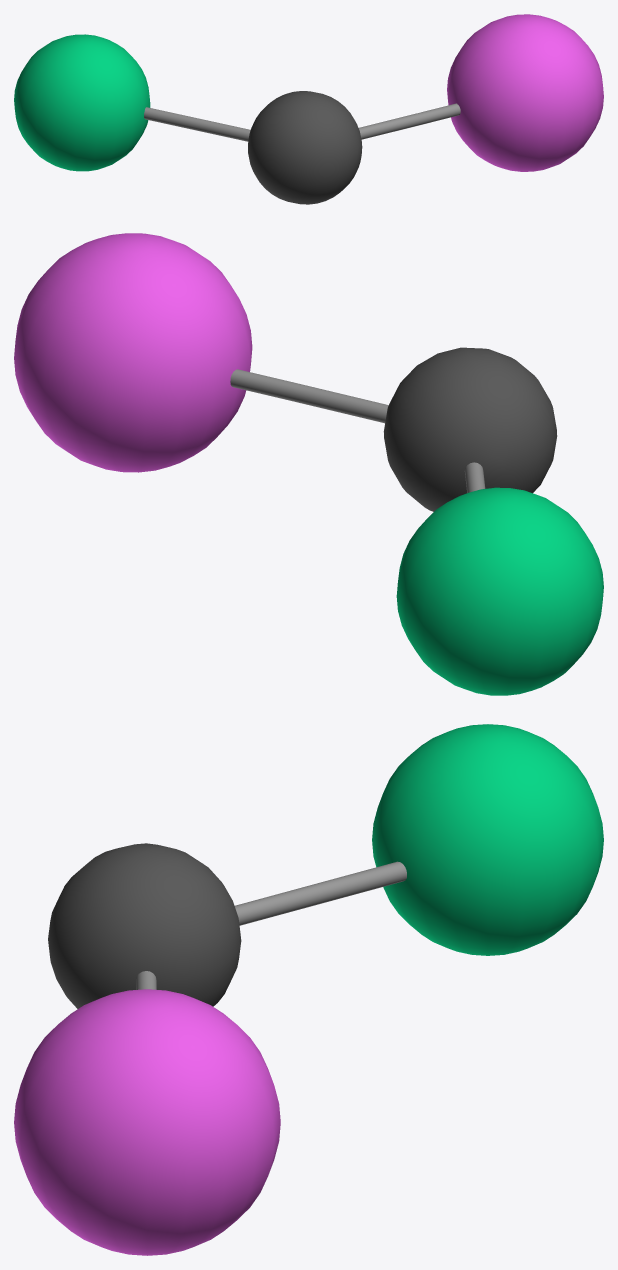
The model's file is LiCN.fbx.
3 views of the same model, one above another, from view 1: azimuth 30°, elevation 25°; view 2: azimuth 150°, elevation 25°; view 3: azimuth 270°, elevation 25° (orthographic). The views are drawn at different scales.
Parts seen in each view (by area): view 1: LiCN; view 2: LiCN; view 3: LiCN.
Boxes of the visible parts, x1,y1,x2,y2 form: LiCN: (14, 14, 603, 204); LiCN: (14, 233, 603, 695); LiCN: (14, 724, 603, 1255).
Size of the model in its own units: 7.91 by 2.3 by 5.09.
